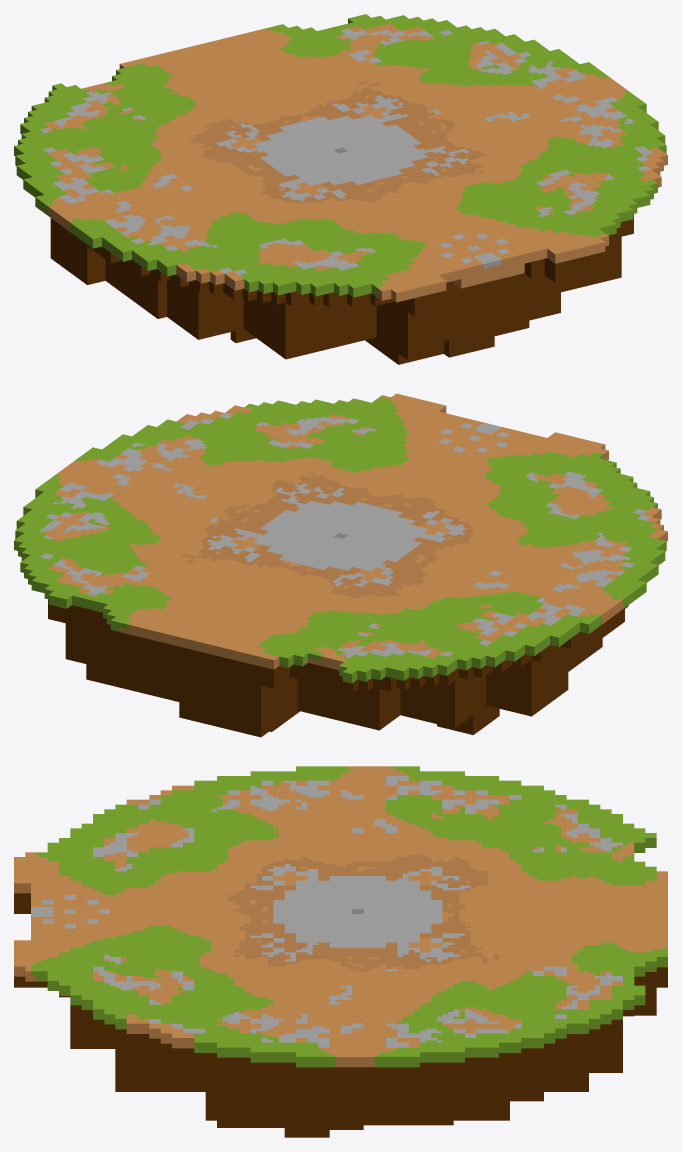
The model's file is ground.obj.
3 views of the same model, one above another, from view 1: azimuth 30°, elevation 25°; view 2: azimuth 150°, elevation 25°; view 3: azimuth 270°, elevation 25° (orthographic). The views are drawn at different scales.
Size of the model in its own units: 12.2 by 2.6 by 11.6.
Materials: 1 (1 with a texture image).
